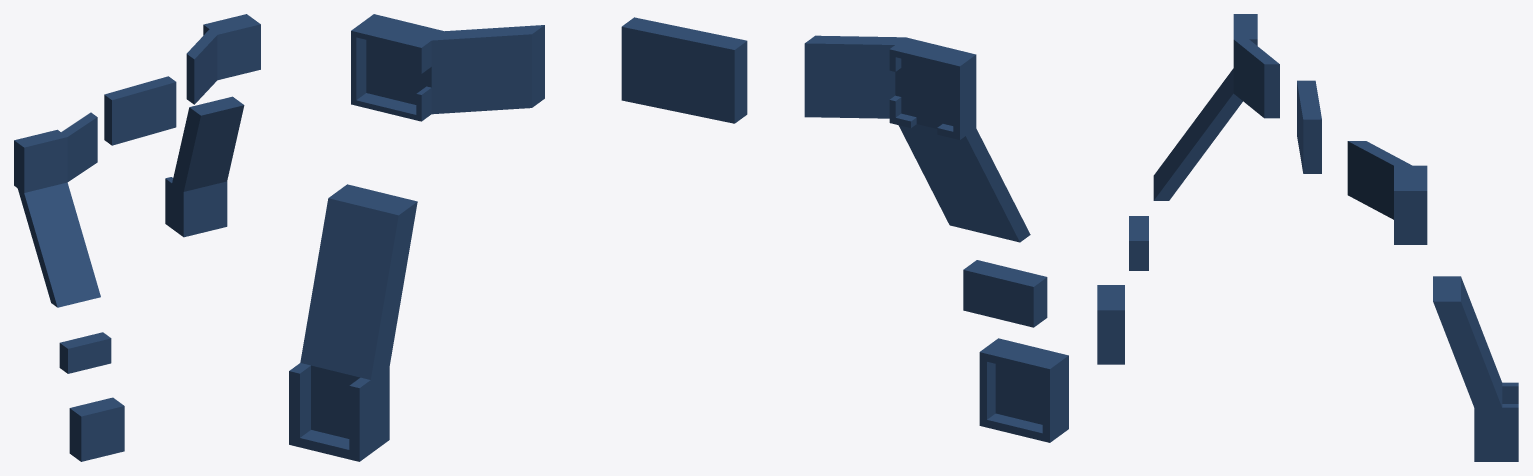
File: Stage6.fbx
The picture shows the model from 3 angles, left to right: view 1: azimuth 30°, elevation 25°; view 2: azimuth 150°, elevation 25°; view 3: azimuth 270°, elevation 25°; orthographic projection. The views are drawn at different scales.
Visible parts, largest first — view 1: Cube; view 2: Cube; view 3: Cube.
Part boxes in pixels (x1,y1,x2,y2): Cube: (14,14,260,461); Cube: (289,14,1068,461); Cube: (1097,14,1518,461).
Size of the model in its own units: 1400 by 1200 by 1408.
